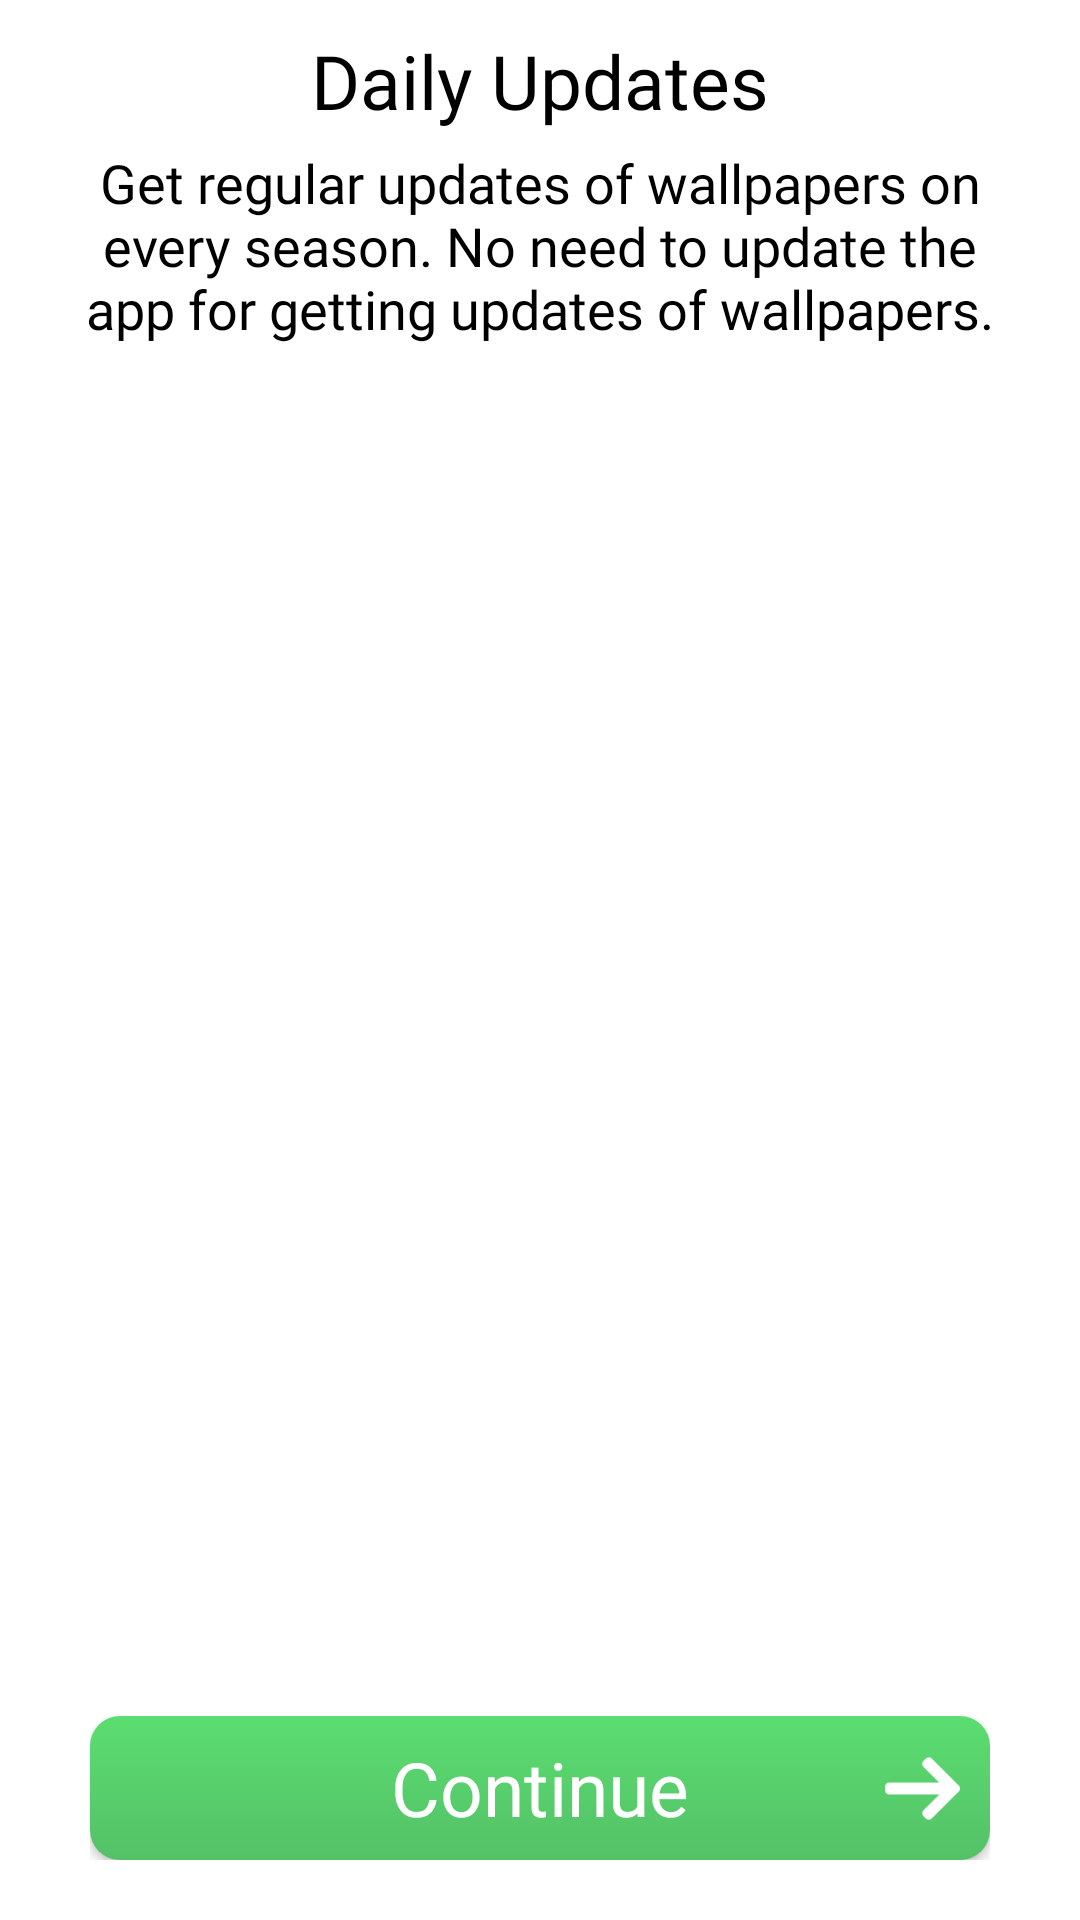

Icons on this 1080px x 1920px Android screen, each with the point to tap as (x,y):
right arrow: (922,1788)
